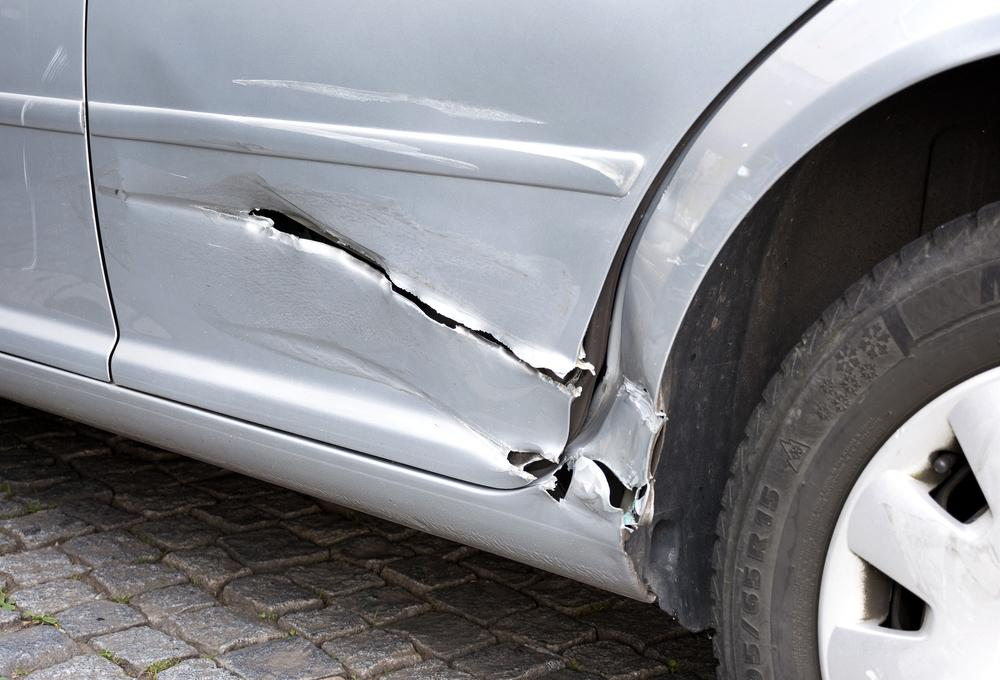crack: (243, 206, 575, 390), (589, 455, 636, 510), (507, 451, 558, 480), (545, 461, 575, 499)
scratch: (167, 176, 585, 447), (228, 76, 556, 128), (256, 120, 484, 172), (19, 47, 64, 275)
